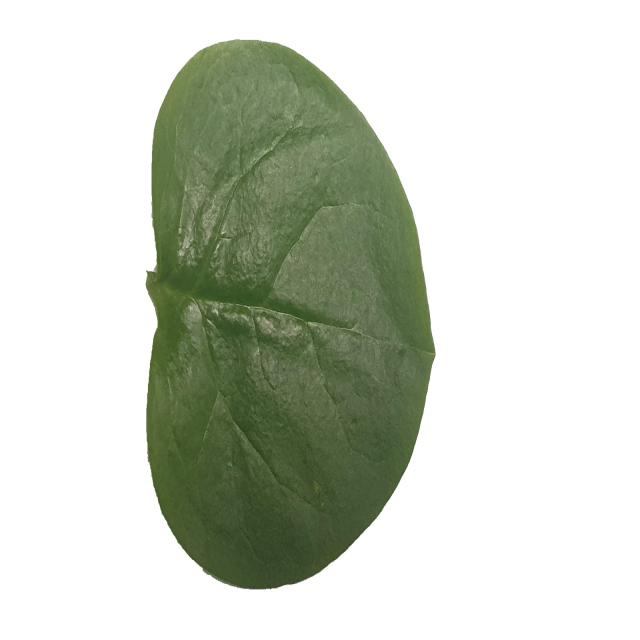Medicinal-Basale: (144, 36, 435, 590)
